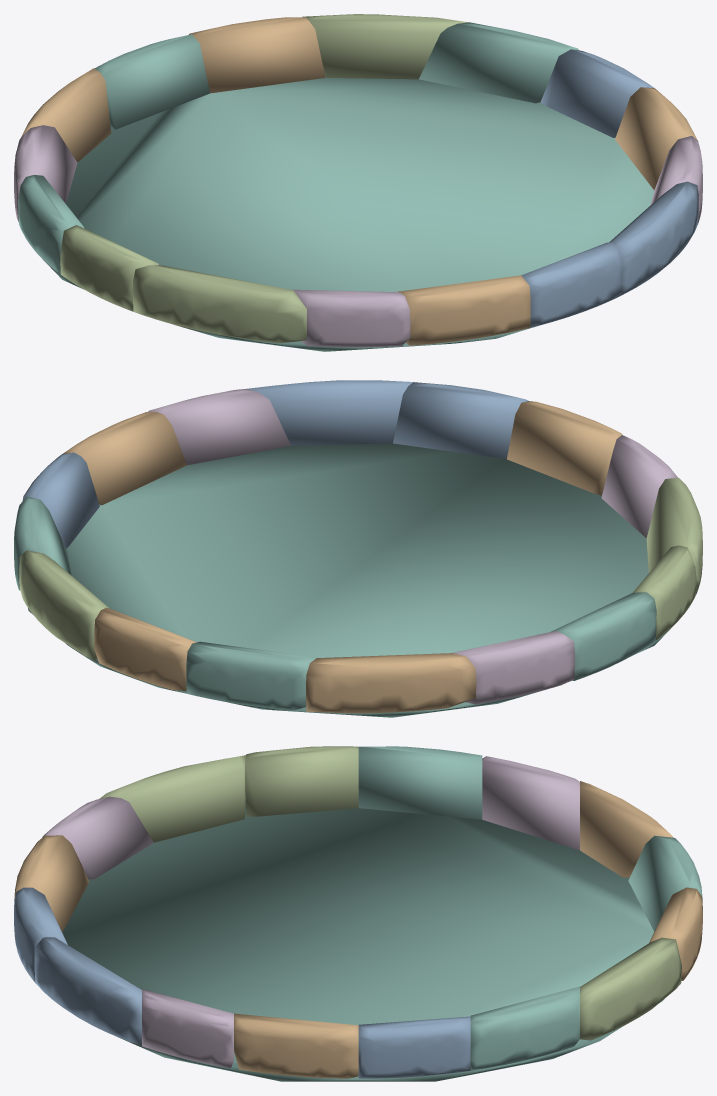
3 renders of one model, top to bottom at view 1: azimuth 30°, elevation 25°; view 2: azimuth 150°, elevation 25°; view 3: azimuth 270°, elevation 25°, orthographic.
Bounding box in the file's own units: 2.02 × 0.2016 × 2.02.
